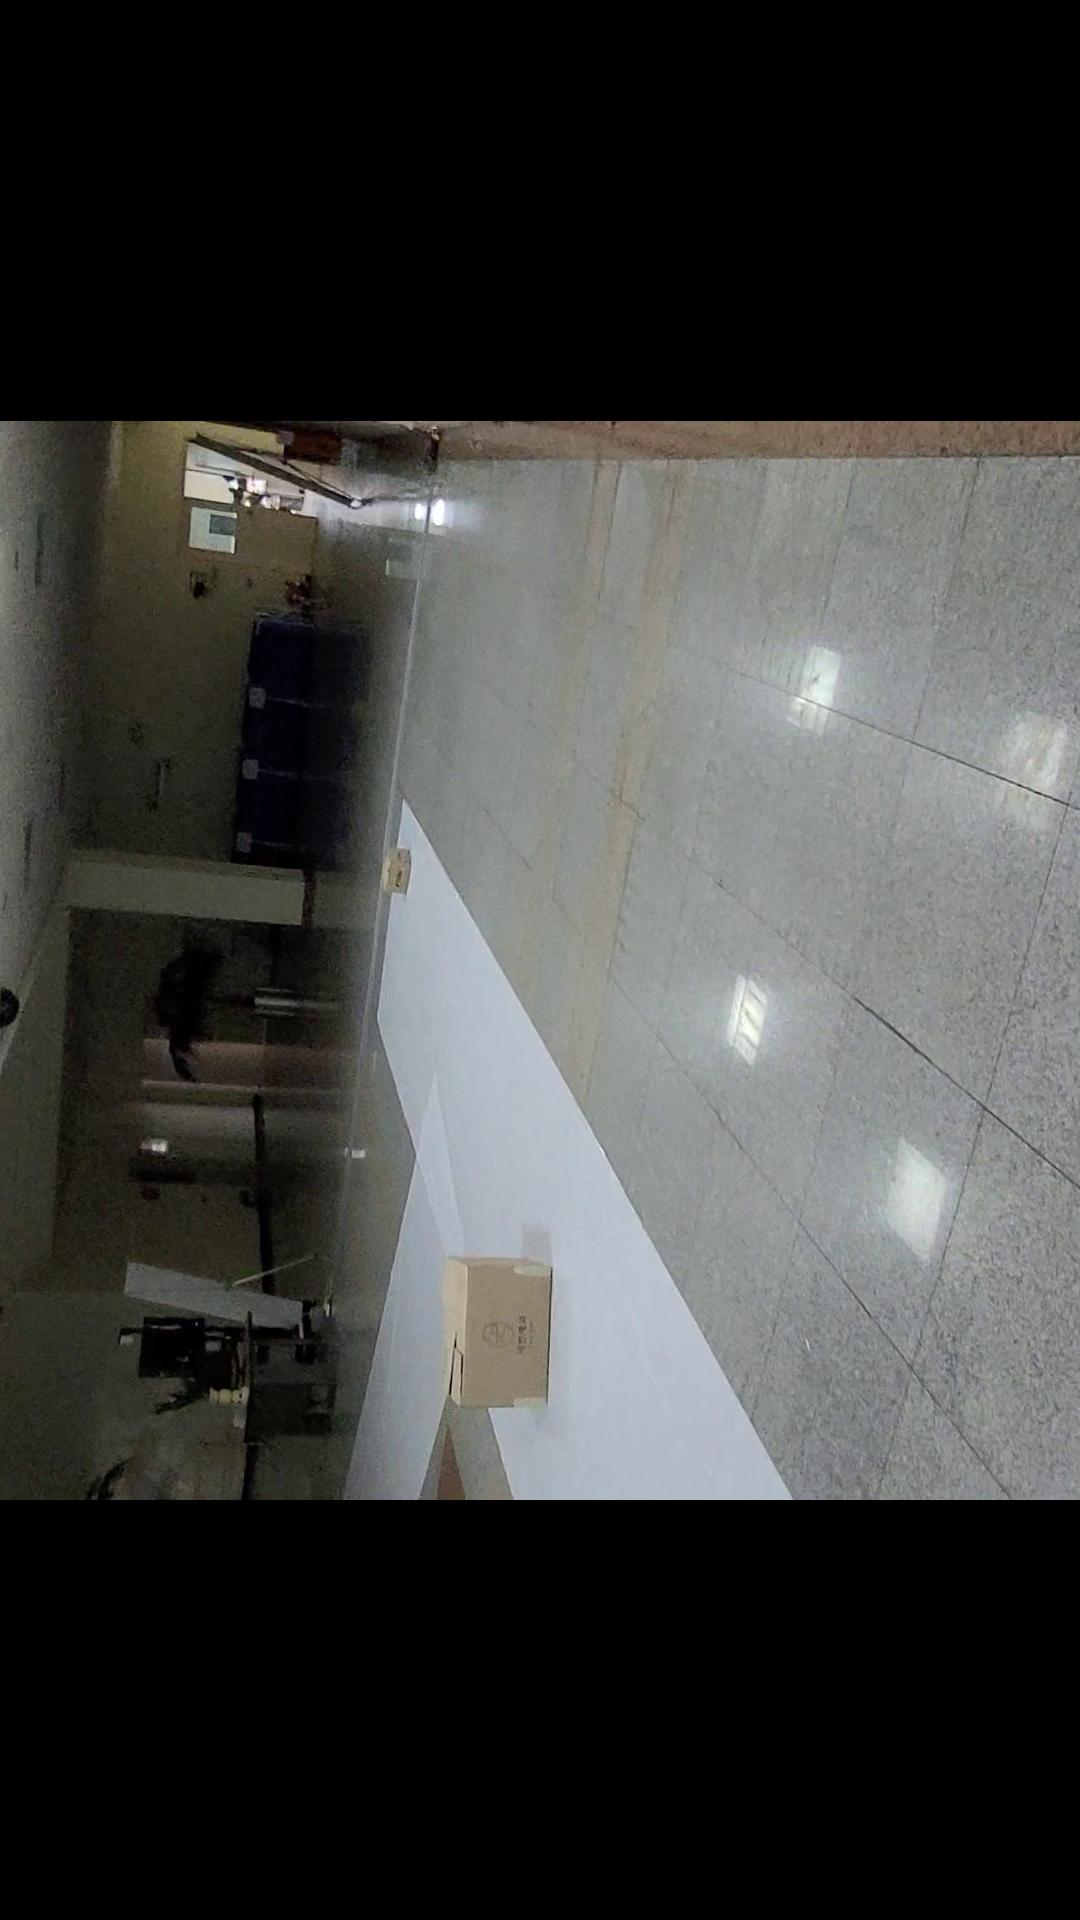Box: (418, 1200, 583, 1429), (353, 825, 444, 919)
